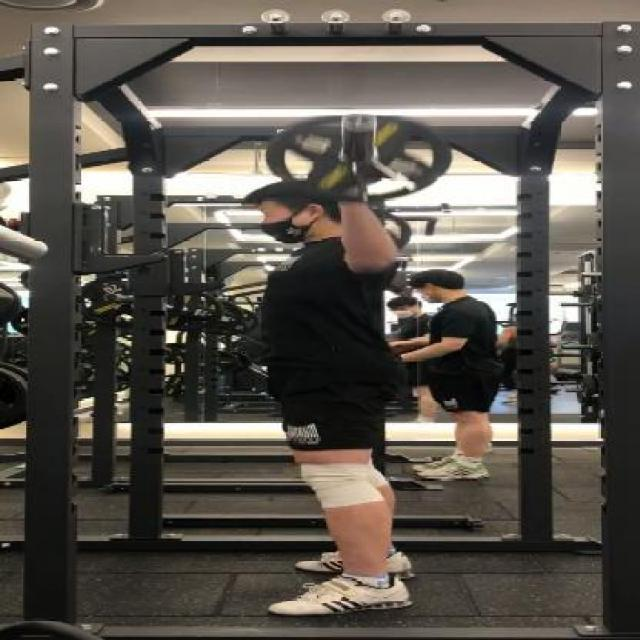Barbell: (334, 108, 389, 134)
